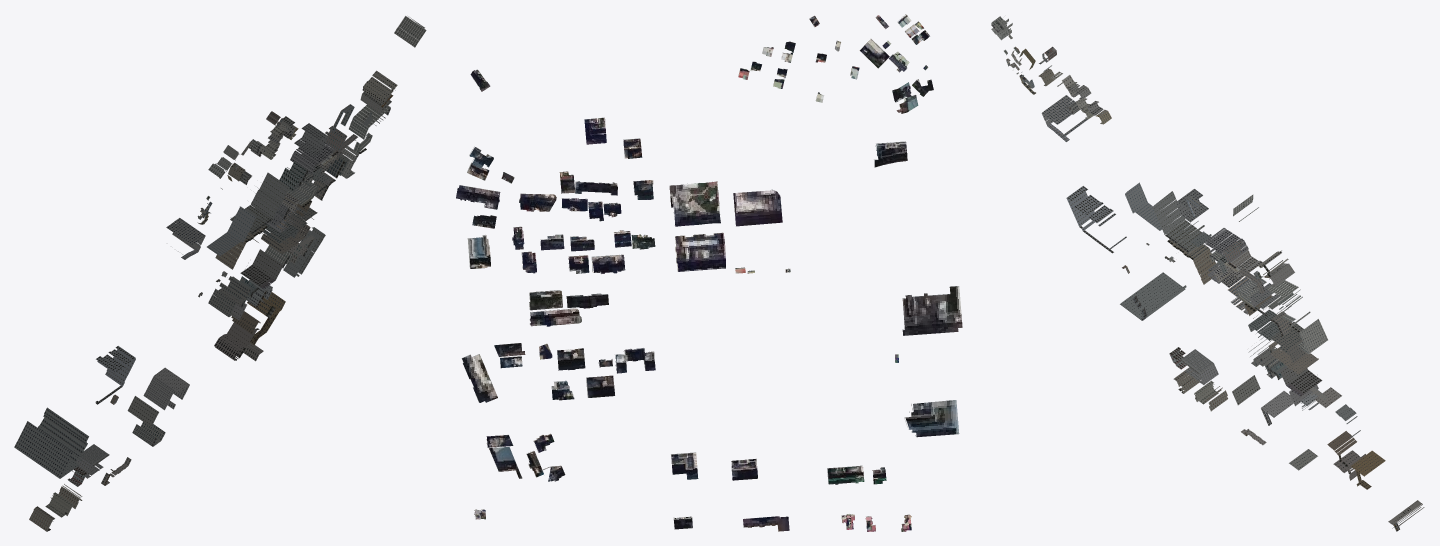
Rendered from tile_LOD4_r1_c3.glb.
The picture shows the model from 3 angles, left to right: view 1: azimuth 30°, elevation 25°; view 2: azimuth 150°, elevation 25°; view 3: azimuth 270°, elevation 25°; orthographic projection. The views are drawn at different scales.
Bounding box in the file's own units: 709 × 646 × 604.
402 materials, 402 textured.
